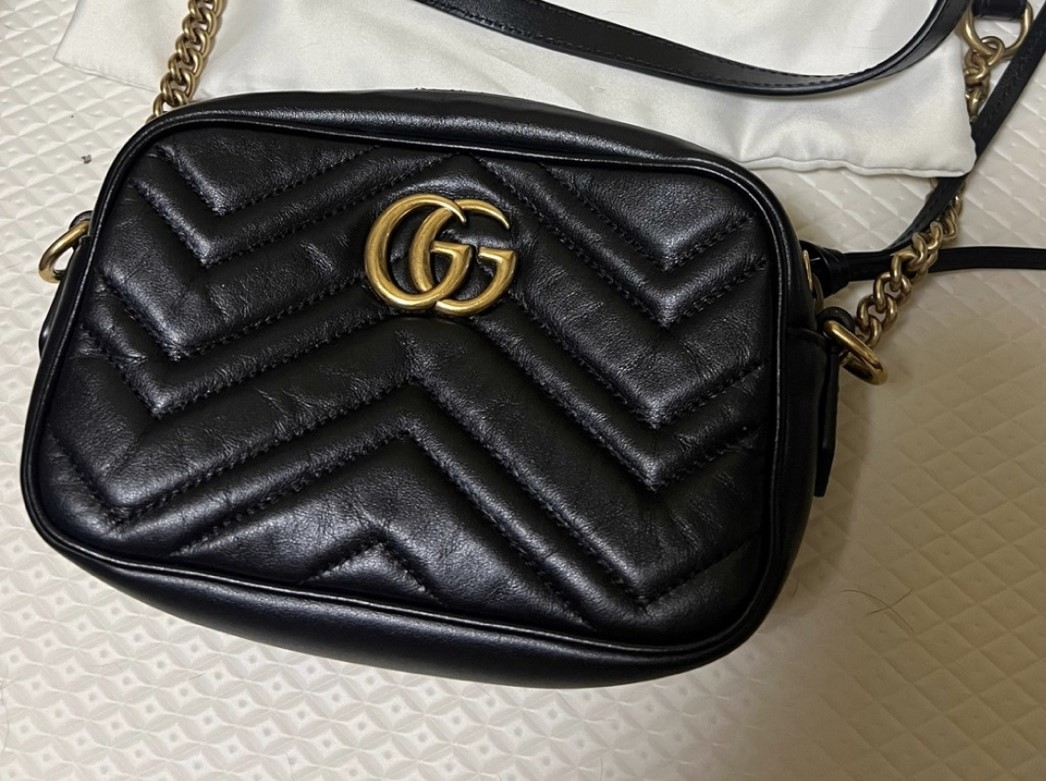Gucci: (26, 72, 842, 695), (117, 247, 383, 555), (356, 174, 533, 327)
